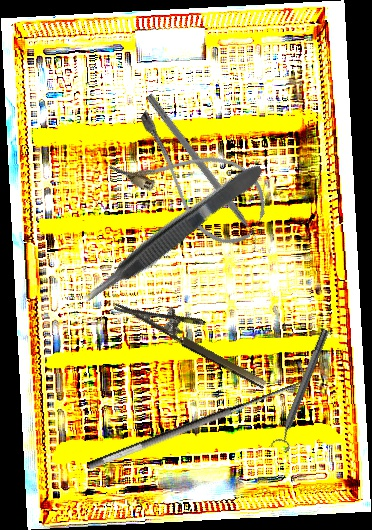Cannula: (106, 105, 280, 256)
Chopper: (137, 93, 266, 255)
Fixation Ring: (269, 326, 336, 454)
Hook Surgical: (80, 359, 314, 474)
Needle Holder: (113, 279, 278, 391)
Tissue Forceps: (76, 158, 270, 311)
